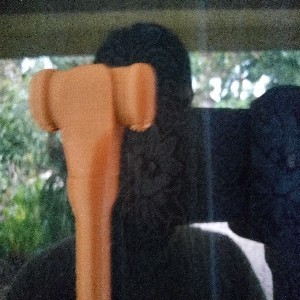palu: (27, 62, 156, 300)
